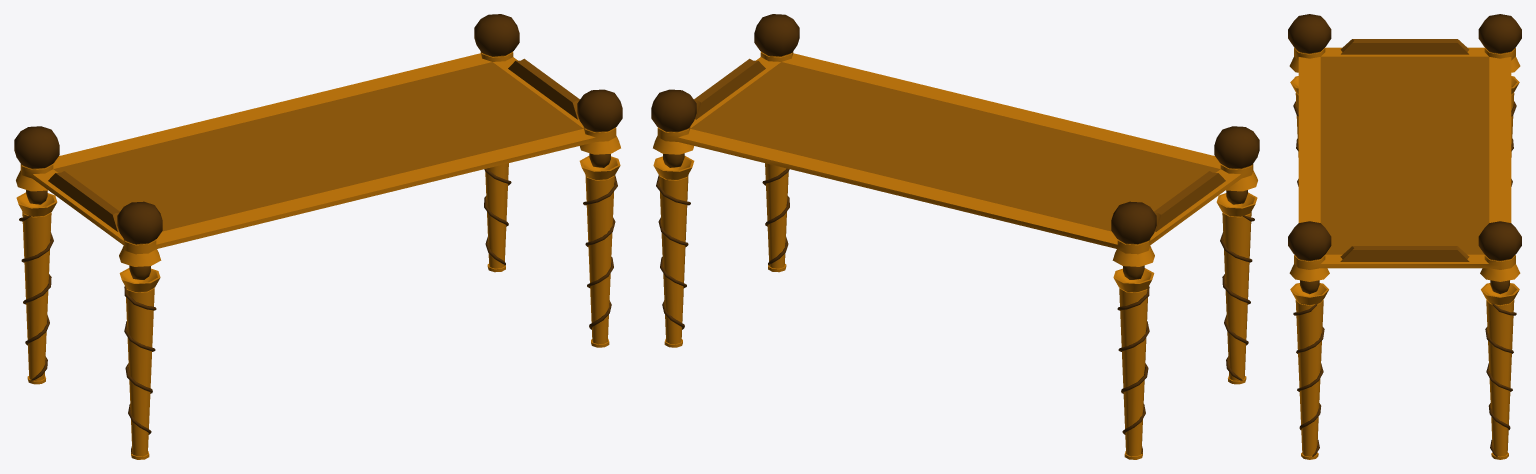
Rendered from Hea_Player_Desk.fbx.
The picture shows the model from 3 angles, left to right: view 1: azimuth 30°, elevation 25°; view 2: azimuth 150°, elevation 25°; view 3: azimuth 270°, elevation 25°; orthographic projection. The views are drawn at different scales.
Visible parts, largest first — view 1: Office_Desk; view 2: Office_Desk; view 3: Office_Desk.
Part boxes in pixels (x1,y1,x2,y2): Office_Desk: (14,14,622,459); Office_Desk: (651,14,1259,459); Office_Desk: (1288,14,1521,459).
Bounding box in the file's own units: 233 × 112 × 102.
